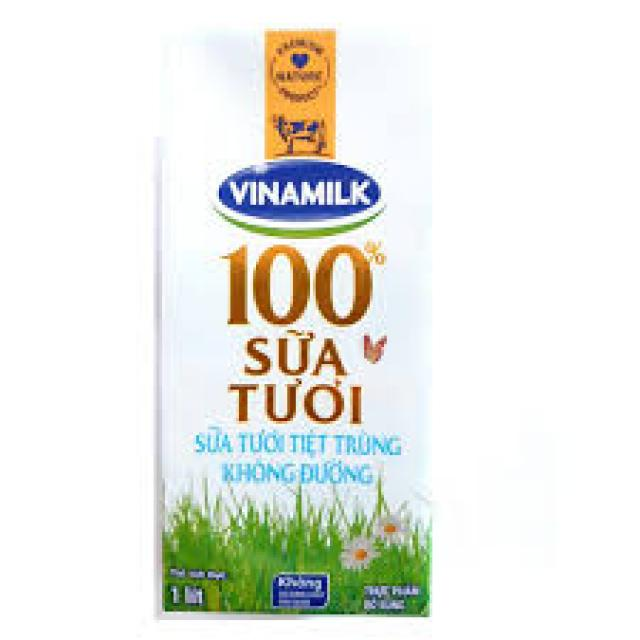non_white_jug: (139, 20, 444, 614)
